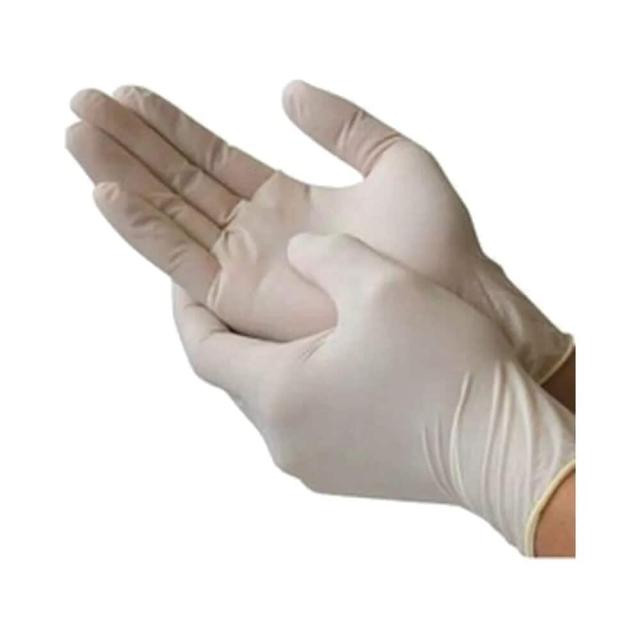Gloves: (50, 63, 588, 407), (141, 229, 598, 566)
